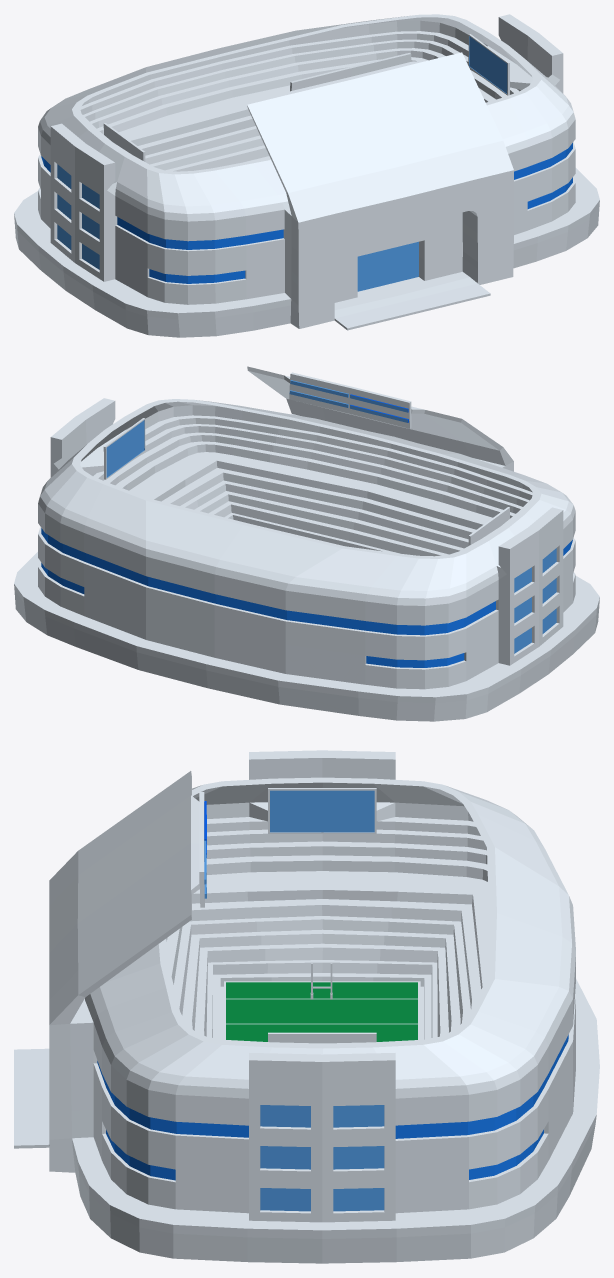
Rendered from Stadion.glb.
The picture shows the model from 3 angles, top to bottom: view 1: azimuth 30°, elevation 25°; view 2: azimuth 150°, elevation 25°; view 3: azimuth 270°, elevation 25°; orthographic projection. The views are drawn at different scales.
Visible parts, largest first — view 1: Stadion.002; view 2: Stadion.002; view 3: Stadion.002.
Part boxes in pixels (x1,y1,x2,y2): Stadion.002: (14, 14, 599, 337); Stadion.002: (14, 366, 599, 721); Stadion.002: (14, 750, 599, 1263).
Size of the model in its own units: 18.78 by 7.22 by 14.2.
1 material, 1 textured.
